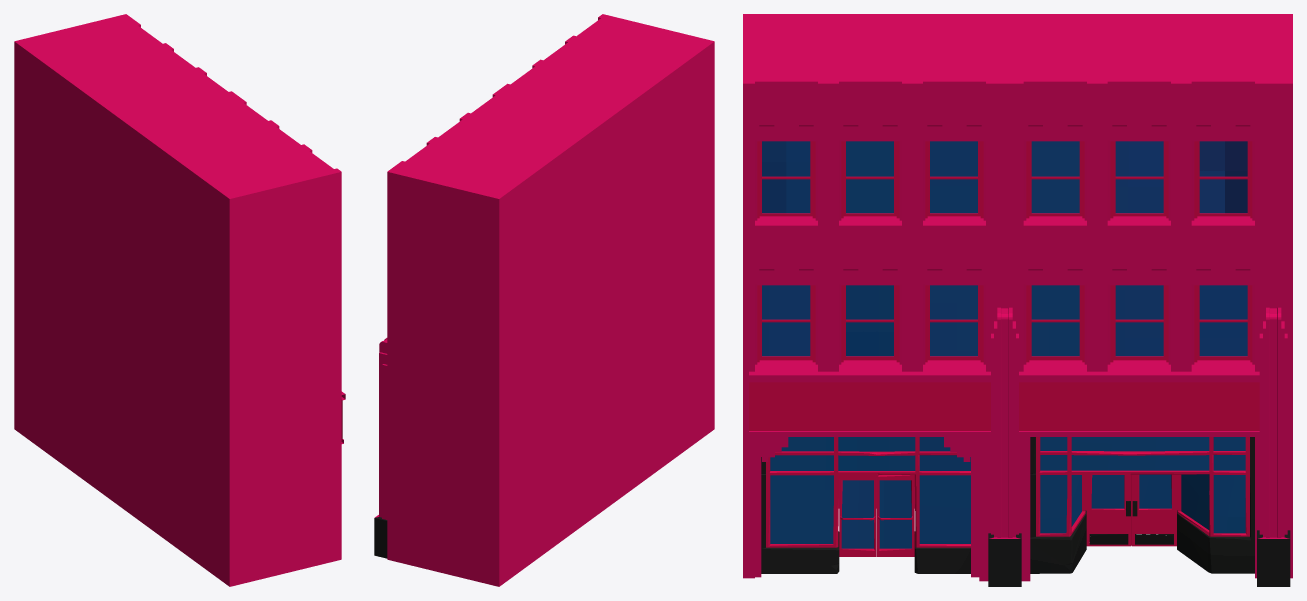
Rendered from Building_Deco02.fbx.
3 renders of one model, left to right at view 1: azimuth 30°, elevation 25°; view 2: azimuth 150°, elevation 25°; view 3: azimuth 270°, elevation 25°, orthographic. The views are drawn at different scales.
Visible parts, largest first — view 1: SM_City_Building_Deco_01b.mo; view 2: SM_City_Building_Deco_01b.mo; view 3: SM_City_Building_Deco_01b.mo.
Boxes of the visible parts, left/top/right/bottom form: SM_City_Building_Deco_01b.mo: left=14, top=14, right=345, bottom=586; SM_City_Building_Deco_01b.mo: left=374, top=14, right=714, bottom=586; SM_City_Building_Deco_01b.mo: left=743, top=14, right=1292, bottom=586.
Size of the model in its own units: 462 by 1360 by 1370.
